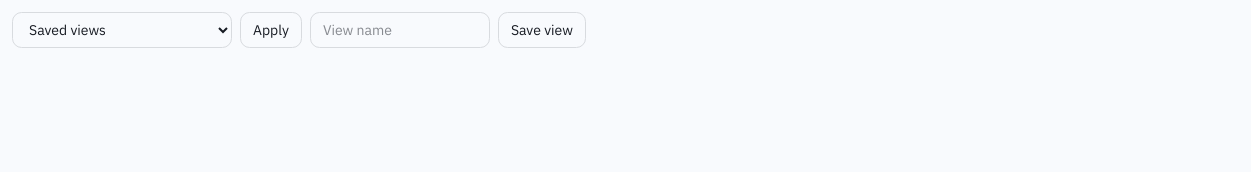
Test: NamedInventoryViewControls › keeps shared views applyable while disabling non-admin management controls
Select "Shared production (Shared)" in the dropdown named "Saved views": (122, 30) x1=12 y1=12 x2=232 y2=48
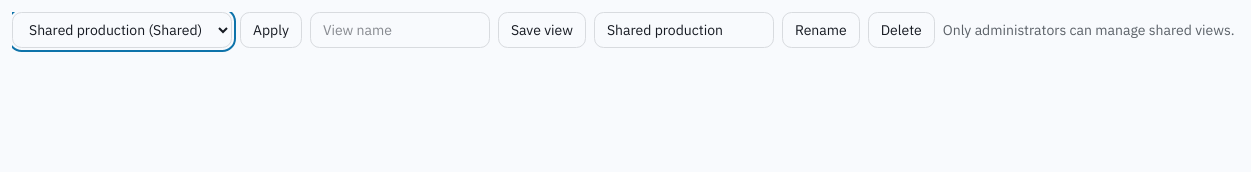
Expected: the button "Rename" is disabled, x1=782 y1=12 x2=860 y2=48
Expected: the button "Delete" is disabled, x1=868 y1=12 x2=935 y2=48
Expected: the text "Only administrators can manage shared views." is shown, x1=943 y1=20 x2=1234 y2=40
